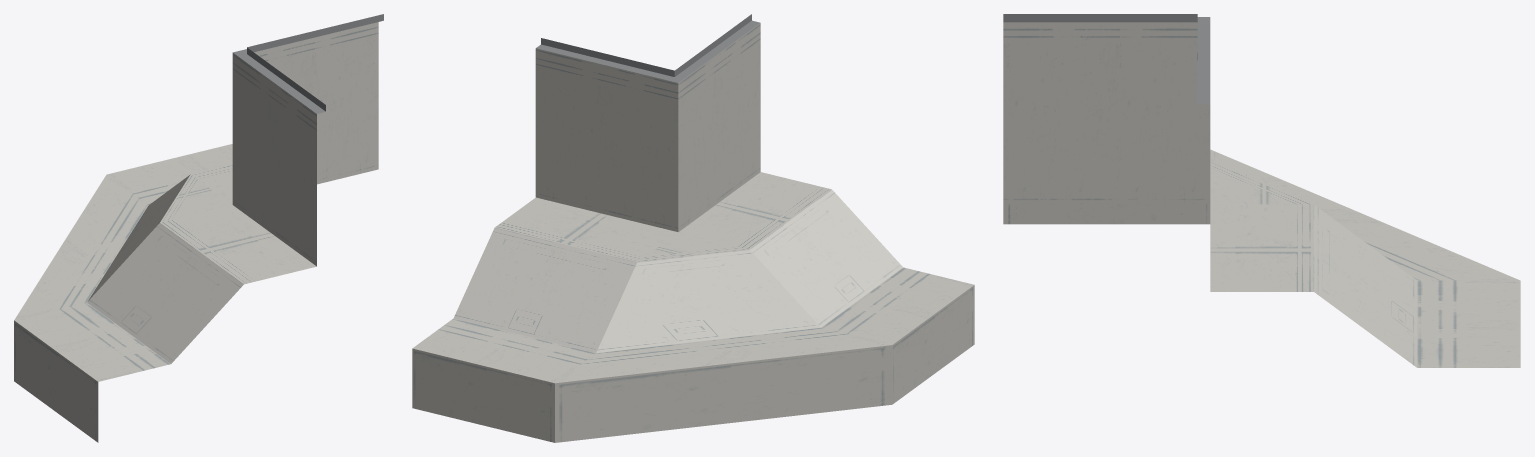
The model's file is G_Env_Arch_Ceiling_03_NoGlass_001.fbx.
3 renders of one model, left to right at view 1: azimuth 30°, elevation 25°; view 2: azimuth 150°, elevation 25°; view 3: azimuth 270°, elevation 25°, orthographic. The views are drawn at different scales.
Parts seen in each view (by area): view 1: G_Env_Arch_Ceiling_03_NoGlass.001; view 2: G_Env_Arch_Ceiling_03_NoGlass.001; view 3: G_Env_Arch_Ceiling_03_NoGlass.001.
Boxes of the visible parts, bbox=[...] form: G_Env_Arch_Ceiling_03_NoGlass.001: bbox=[14, 14, 383, 442]; G_Env_Arch_Ceiling_03_NoGlass.001: bbox=[412, 14, 974, 442]; G_Env_Arch_Ceiling_03_NoGlass.001: bbox=[1003, 14, 1520, 367].
Size of the model in its own units: 1250 by 925 by 1250.
